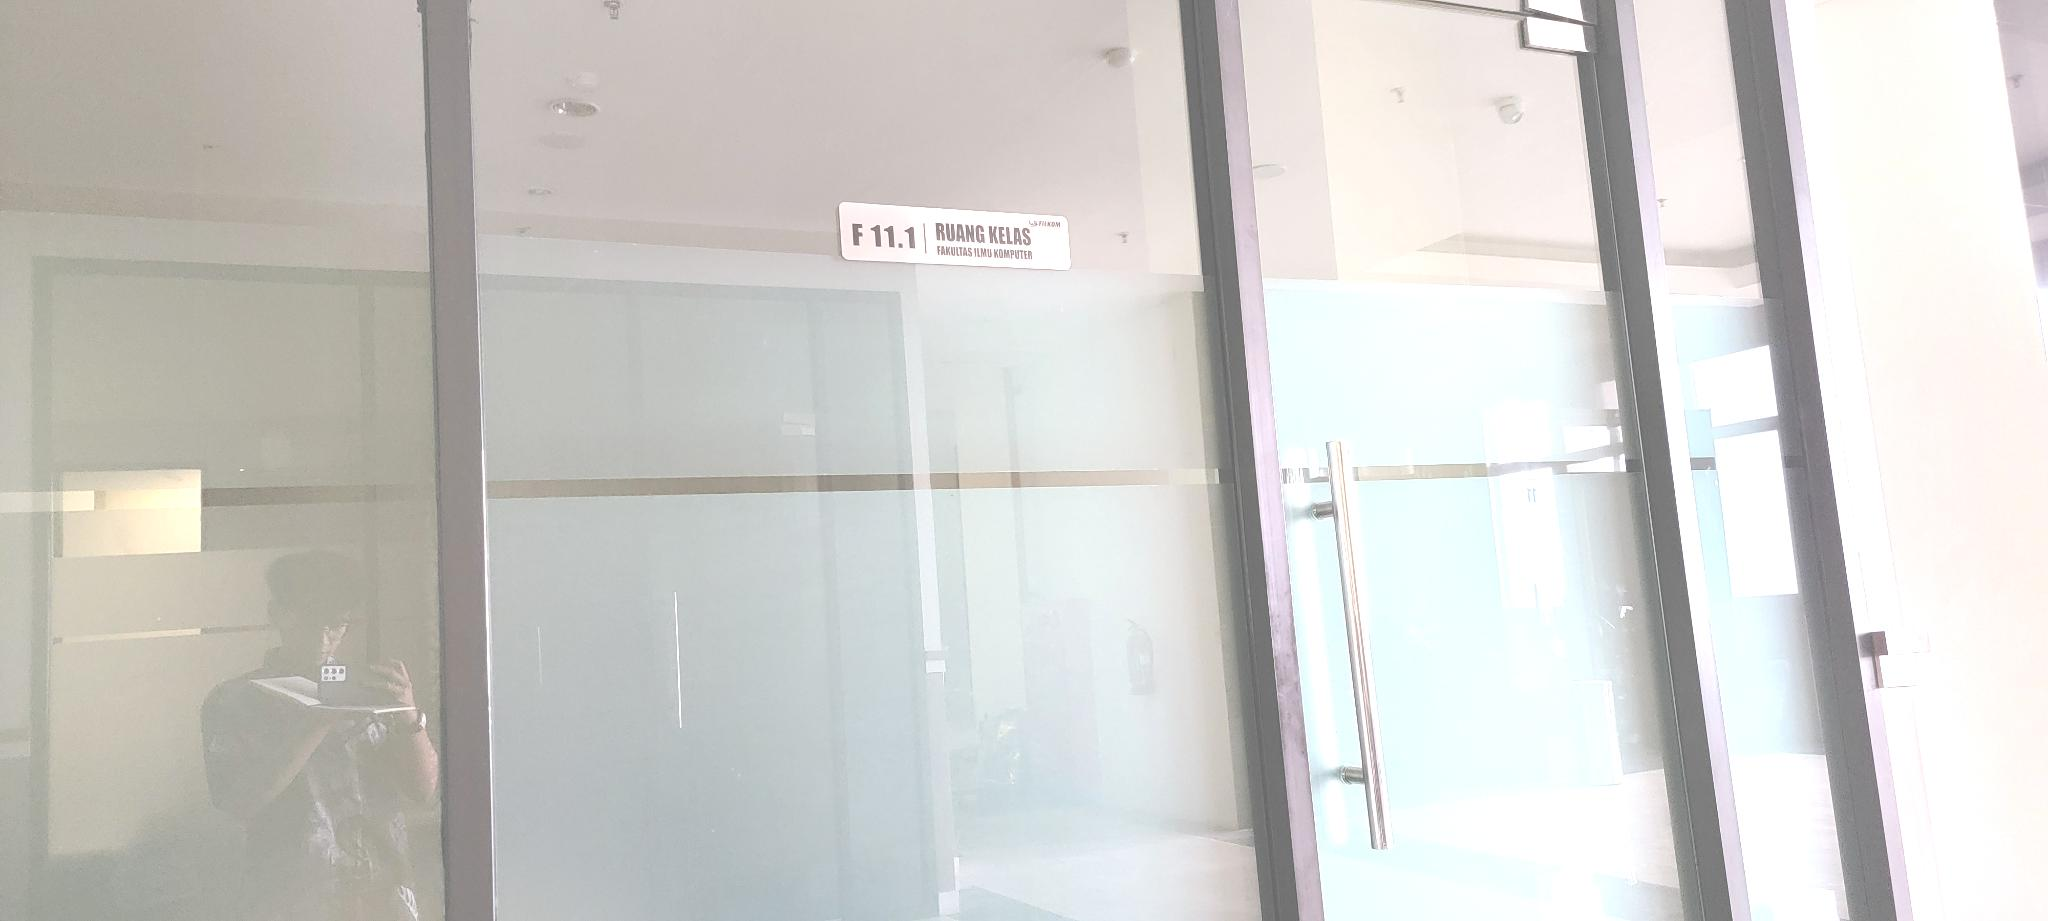plate: (833, 195, 1078, 270)
